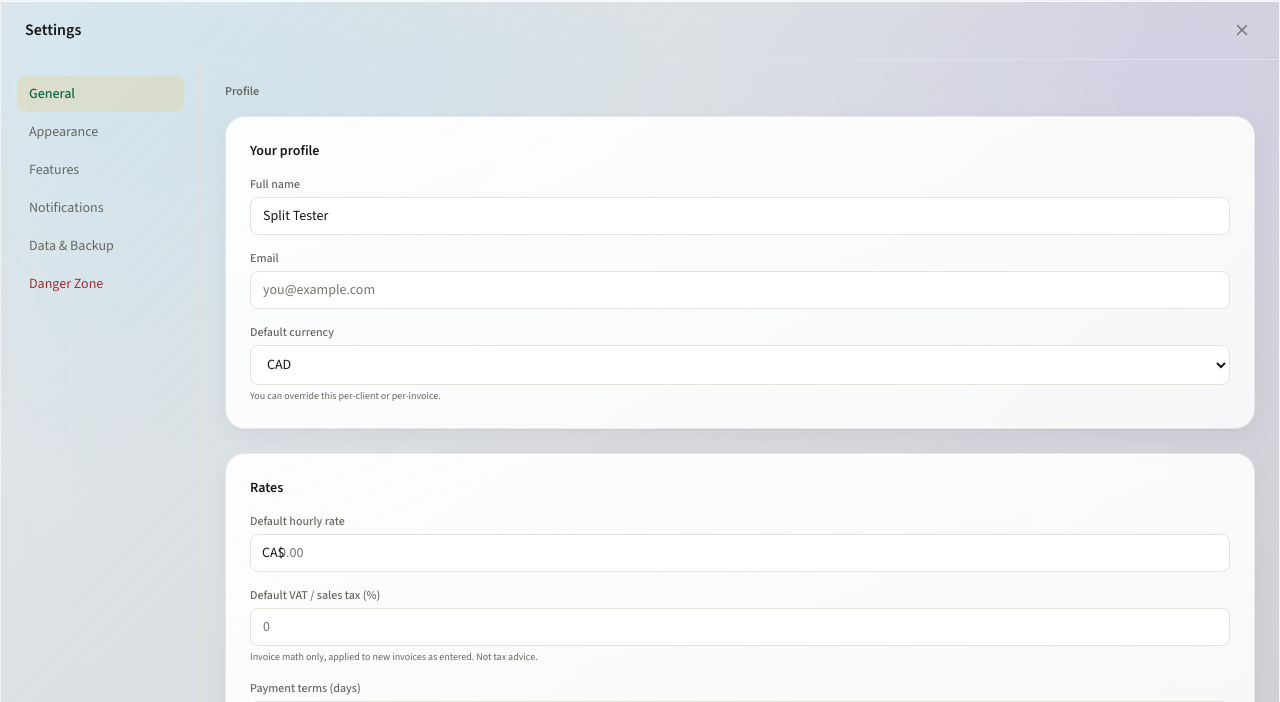
Test: Settings sections survive the split › appearance lists all seven themes
Click the button "Appearance". click: (100, 132)
box: x1=17 y1=114 x2=184 y2=150
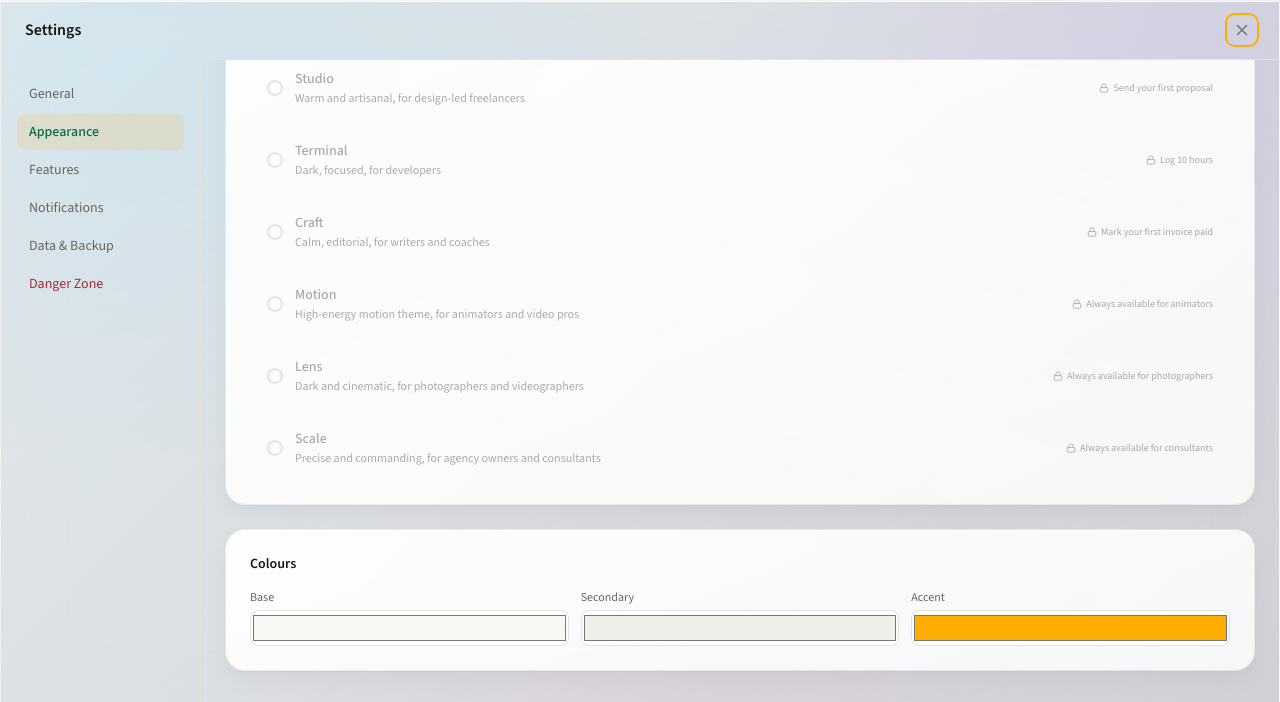
Expected: the text "Studio" is shown, x1=295 y1=69 x2=334 y2=89
Expected: the text "Terminal" is shown, x1=295 y1=141 x2=348 y2=161
Expected: the text "Craft" is shown, x1=295 y1=213 x2=324 y2=233
